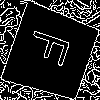F: (26, 27, 81, 72)
